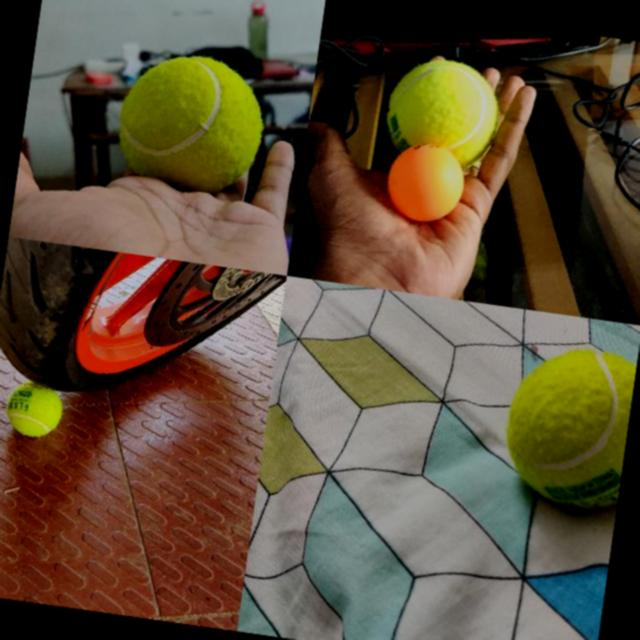tennis-ball: (496, 339, 637, 513), (112, 46, 272, 190), (384, 53, 506, 153), (4, 384, 64, 440)
